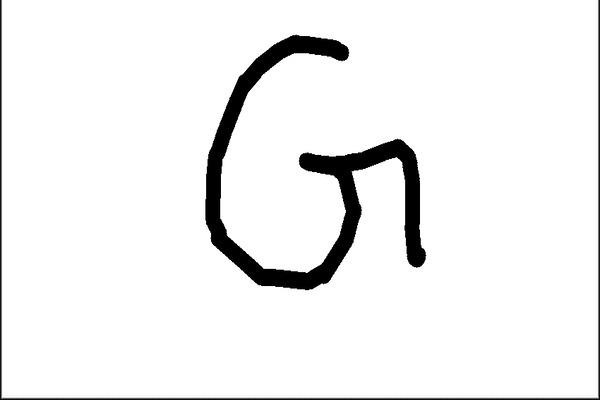G: (199, 29, 431, 295)
